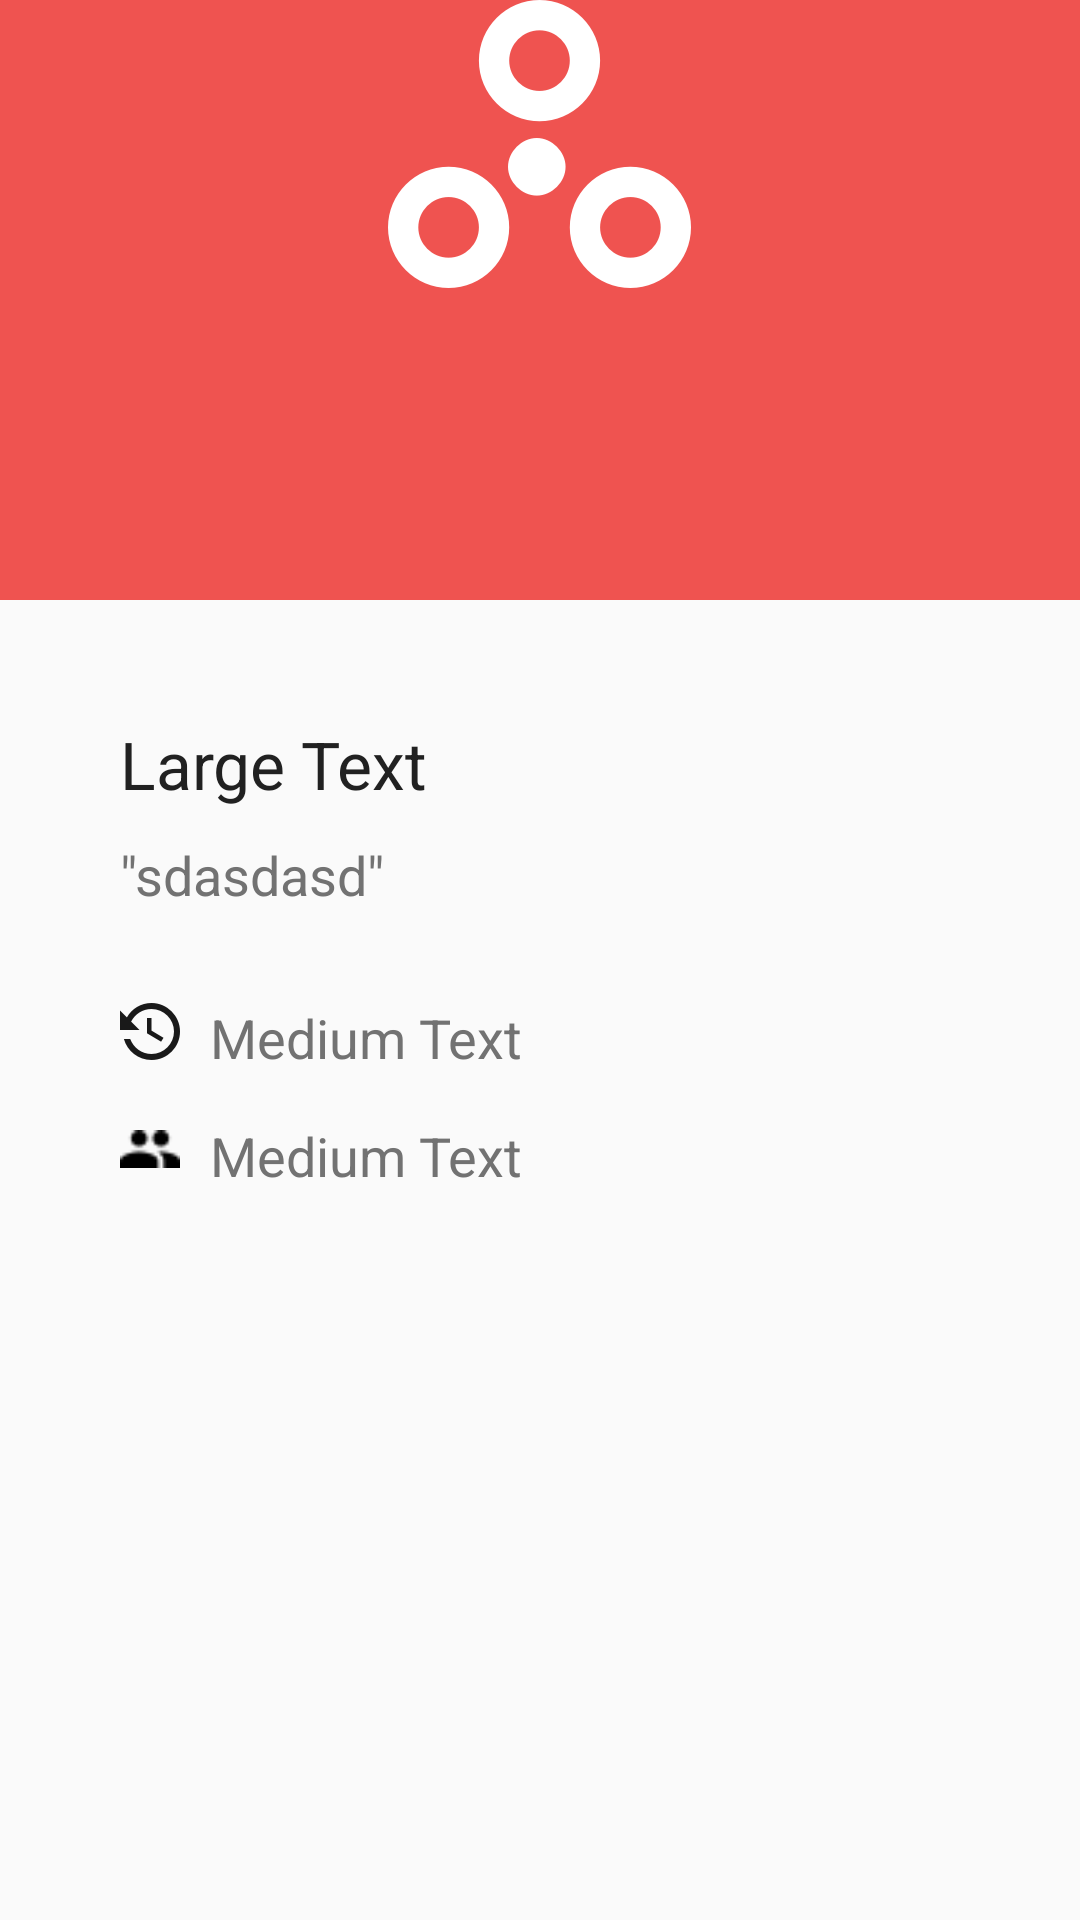

Icons on this 1080px x 1920px Android screen, each with its box as (x1, y1, x2, y2):
duration: (120, 1003, 180, 1060)
groups: (120, 1130, 180, 1168)
